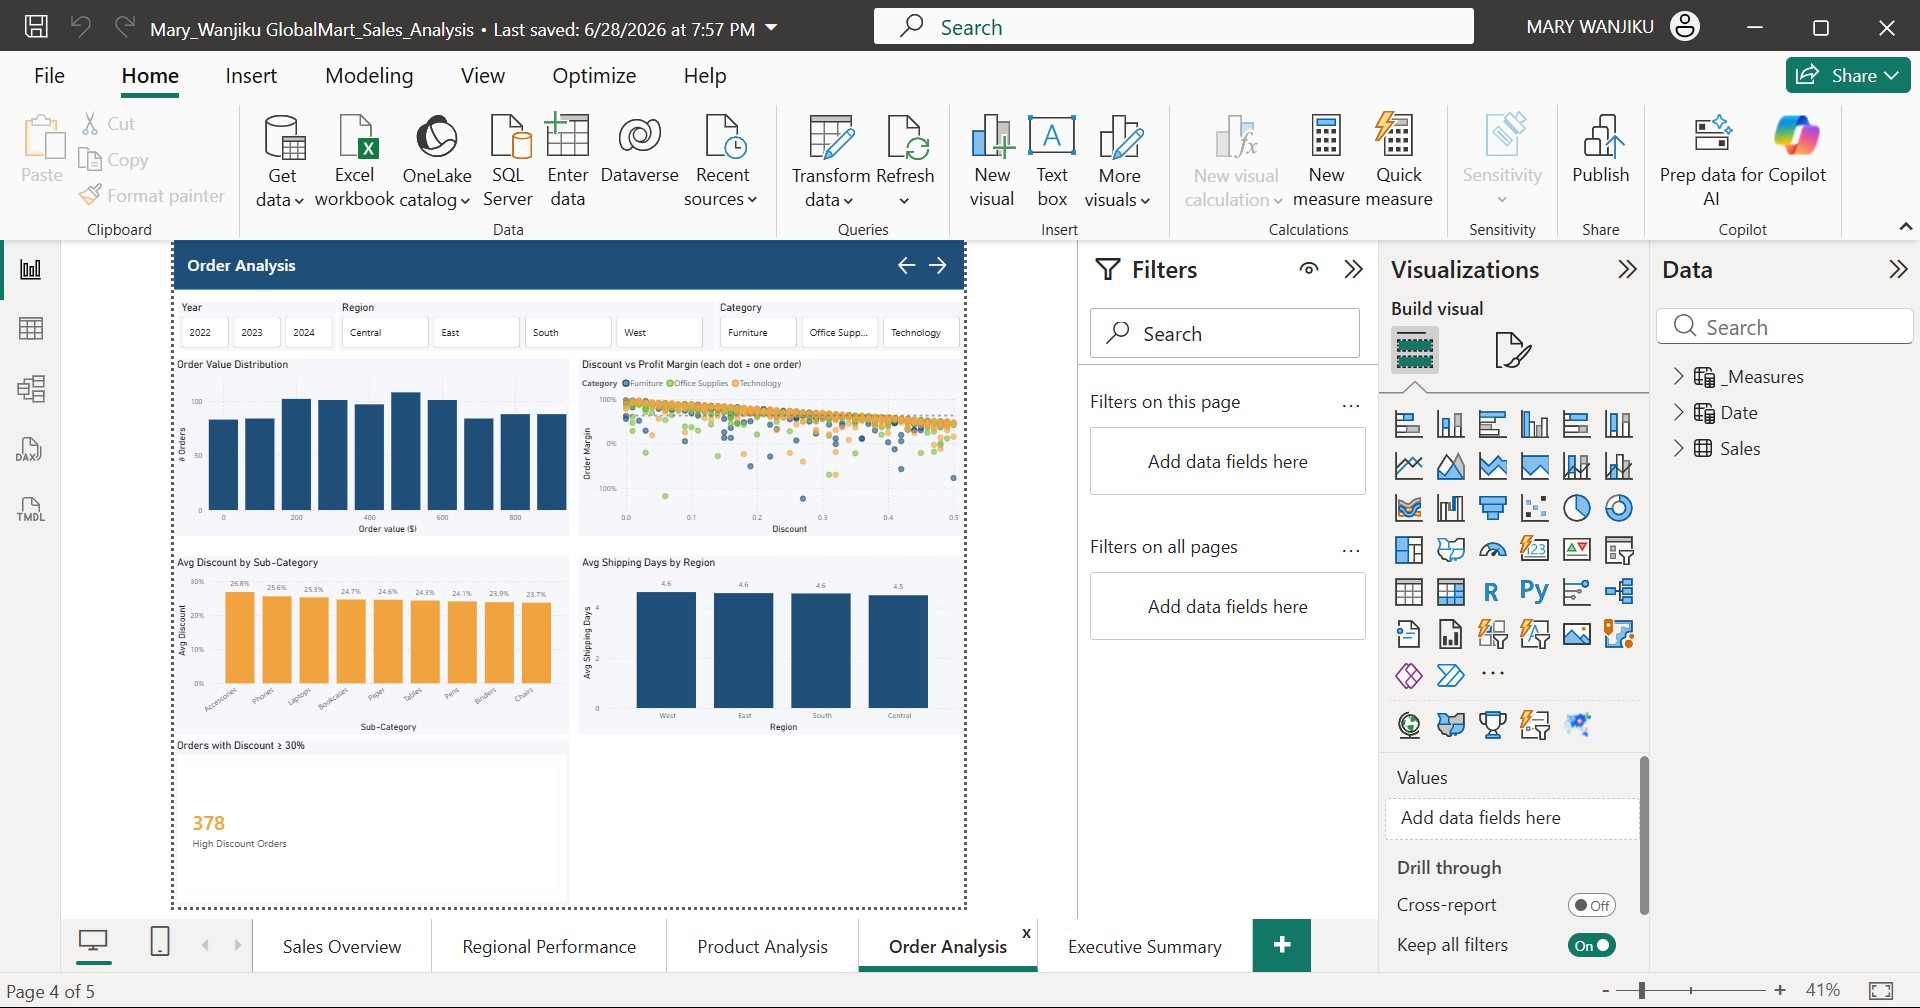

The page's visual inventory and layout, read from the dashboard file:
{"tool":"powerbi","page":{"name":"Order Analysis","canvas":[1280,1080],"ordinal":3},"visuals":[{"type":"group","id":"g1","title":"Group 1","box":[0,0,1280,80],"z":0},{"type":"shape","box":[0,0,1280,80],"z":0,"group":"g1"},{"type":"textbox","box":[16,16,288,48],"z":1000,"group":"g1"},{"type":"advancedSlicerVisual","fields":{"Values":["Sales.Region"]},"box":[268.2,99.3,608,80],"z":1000},{"type":"advancedSlicerVisual","fields":{"Values":["DimDate.Year"]},"box":[8.3,99.3,256,80],"z":2000},{"type":"advancedSlicerVisual","fields":{"Values":["Sales.Category"]},"box":[880,99.3,400,80],"z":3000},{"type":"clusteredColumnChart","title":"Order Value Distribution","fields":{"Category":["Sales.Sales (bins)"],"Y":["_Measures.Total Orders"]},"box":[0,192,640,288],"z":4000},{"type":"scatterChart","title":"Discount vs Profit Margin (each dot = one order)","fields":{"X":["Sum(Sales.Discount)"],"Y":["Sum(Sales.Order Margin)"],"Series":["Sales.Category"],"Category":["Sales.Order ID"]},"box":[656,192,624,288],"z":5000},{"type":"clusteredColumnChart","title":"Avg Discount by Sub-Category","fields":{"Category":["Sales.Sub-Category"],"Y":["_Measures.Avg Discount"]},"box":[0,512,640,288],"z":6000},{"type":"clusteredColumnChart","title":"Avg Shipping Days by Region","fields":{"Category":["Sales.Region"],"Y":["_Measures.Avg Shipping Days"]},"box":[656,512,624,288],"z":7000},{"type":"cardVisual","title":"Orders with Discount ≥ 30%","fields":{"Data":["_Measures.High Discount Orders"]},"box":[0,810,640,270],"z":8000},{"type":"actionButton","box":[1168,16,32,48],"z":9000},{"type":"actionButton","box":[1216,16,48,48],"z":10000}]}

Visuals, with their boxes on the page's 1280x1080 design canvas (x1, y1, x2, y2). These are canvas units, not pixel positions in the 1920x1008 screenshot, which may show the page scaled, cropped or inside an application window:
"Group 1" group: <bbox>0, 0, 1280, 80</bbox>
shape: <bbox>0, 0, 1280, 80</bbox>
textbox: <bbox>16, 16, 304, 64</bbox>
advancedSlicerVisual - Sales.Region: <bbox>268, 99, 876, 179</bbox>
advancedSlicerVisual - DimDate.Year: <bbox>8, 99, 264, 179</bbox>
advancedSlicerVisual - Sales.Category: <bbox>880, 99, 1280, 179</bbox>
"Order Value Distribution" clusteredColumnChart: <bbox>0, 192, 640, 480</bbox>
"Discount vs Profit Margin (each dot = one order)" scatterChart: <bbox>656, 192, 1280, 480</bbox>
"Avg Discount by Sub-Category" clusteredColumnChart: <bbox>0, 512, 640, 800</bbox>
"Avg Shipping Days by Region" clusteredColumnChart: <bbox>656, 512, 1280, 800</bbox>
"Orders with Discount ≥ 30%" cardVisual: <bbox>0, 810, 640, 1080</bbox>
actionButton: <bbox>1168, 16, 1200, 64</bbox>
actionButton: <bbox>1216, 16, 1264, 64</bbox>
